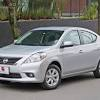Nissan: (2, 27, 97, 86)
